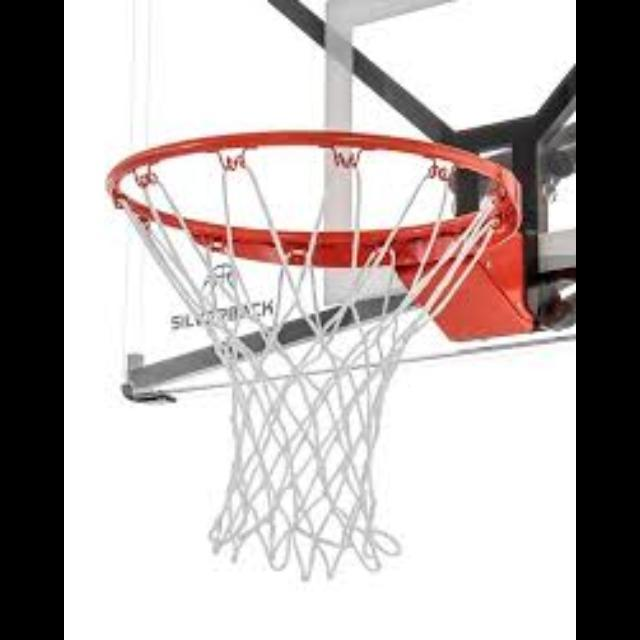rim: (104, 130, 522, 566)
